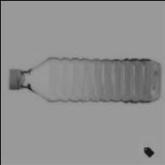bottle: (4, 55, 164, 106)
